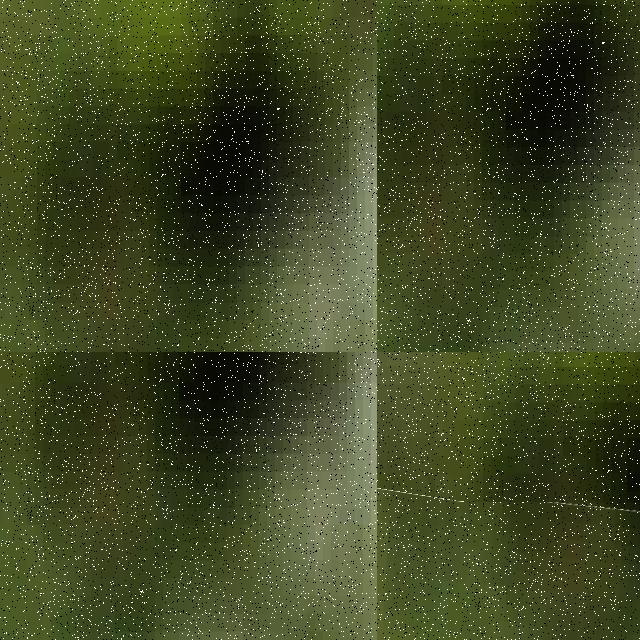drone: (377, 502, 640, 640)
